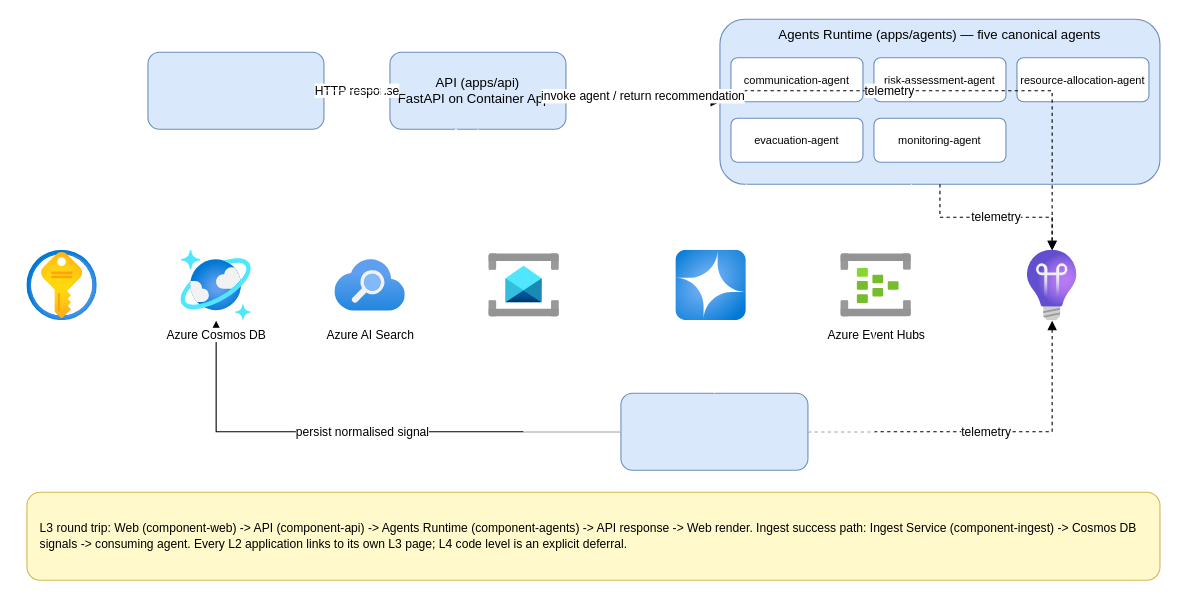
This 1179x600 diagram has some shape labels left out. Here are the shapes that lost their labels. From the top down, the box of each, then its label:
(147, 51, 324, 129): Web (apps/web) Next.js on Azure App Service
(26, 250, 97, 320): Azure Key Vault
(488, 250, 559, 320): Azure Service Bus
(675, 250, 746, 320): Microsoft Foundry
(1016, 250, 1087, 320): Application Insights OpenTelemetry traces, metrics, logs
(620, 392, 808, 470): Ingest Service (apps/ingestion) worker on Container Apps
